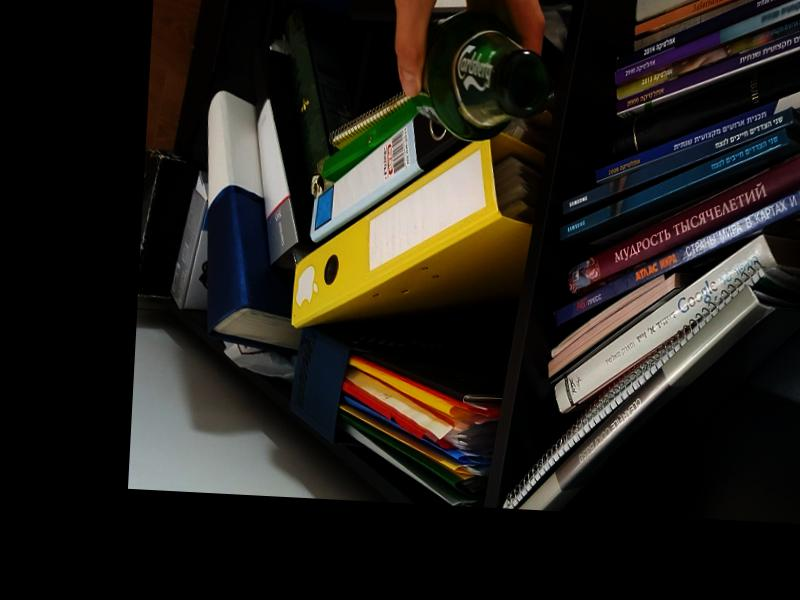Beer: (408, 12, 549, 143)
